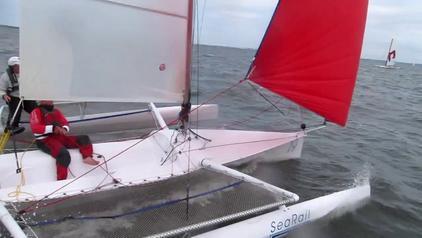stay: (26, 105, 76, 170)
